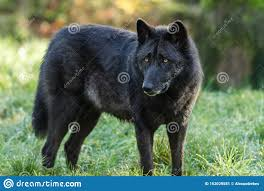Lobo: (70, 1, 195, 191)
